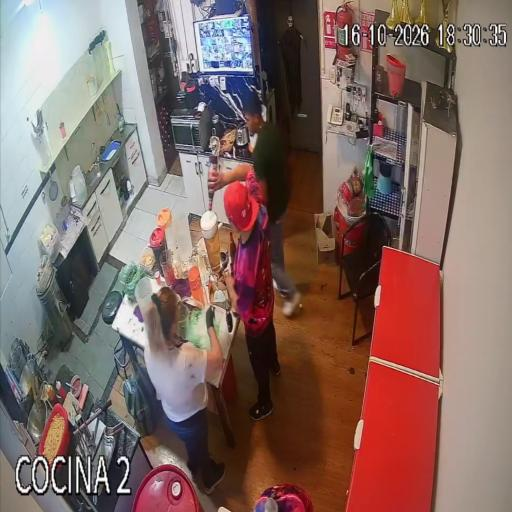Envase Ketchup: (56, 381, 65, 400)
Envase Llajua: (43, 383, 54, 402)
Jarra1: (150, 227, 167, 273)
Jarra2: (156, 209, 172, 247)
Jarra3: (174, 212, 192, 258)
Jarra4: (135, 274, 152, 295)
Microondas: (171, 107, 212, 152)
Persona1: (209, 164, 280, 421)
Persona2: (254, 484, 314, 512)
Persona3: (143, 287, 225, 493)
Persona4: (246, 101, 300, 316)
Taper: (40, 223, 61, 264)
Taper3: (183, 301, 210, 348), (214, 306, 233, 361), (178, 297, 203, 335)
Taper4: (164, 292, 179, 314)
